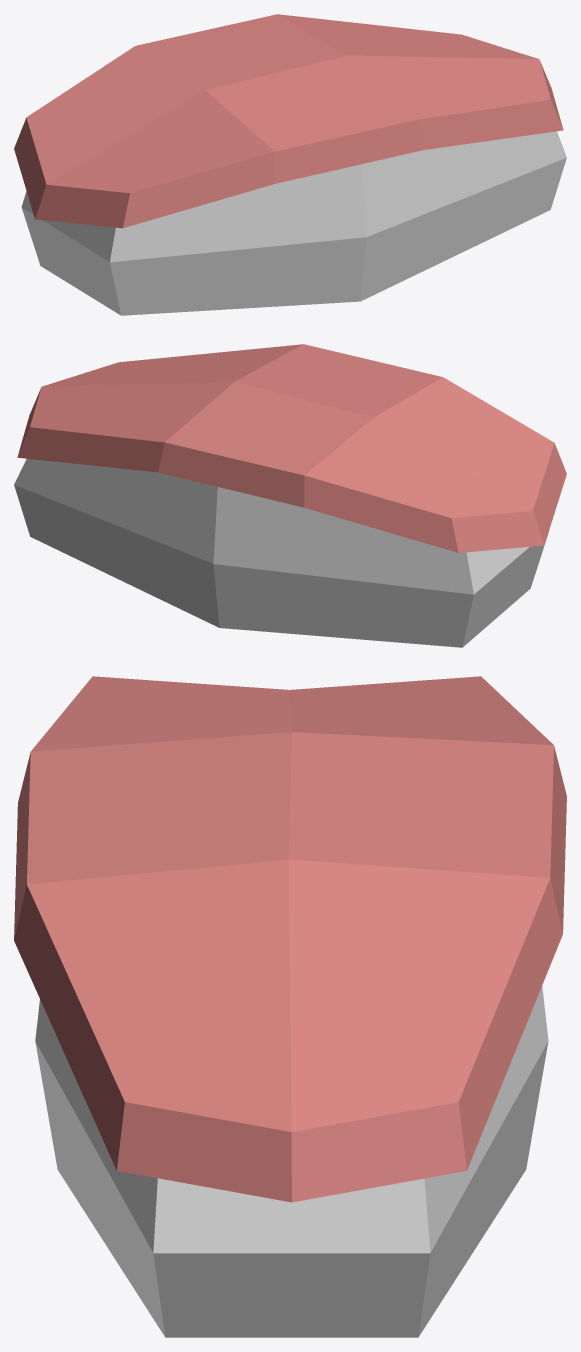
The model's file is Sushi_01.fbx.
3 renders of one model, top to bottom at view 1: azimuth 30°, elevation 25°; view 2: azimuth 150°, elevation 25°; view 3: azimuth 270°, elevation 25°, orthographic. The views are drawn at different scales.
Visible parts, largest first — view 1: Sushi_01; view 2: Sushi_01; view 3: Sushi_01.
Part boxes in pixels (box(x1,y1,x2,y2)): Sushi_01: box(14, 14, 566, 315); Sushi_01: box(14, 344, 566, 647); Sushi_01: box(14, 676, 566, 1337).
Bounding box in the file's own units: 11.54 × 4.03 × 5.71.
